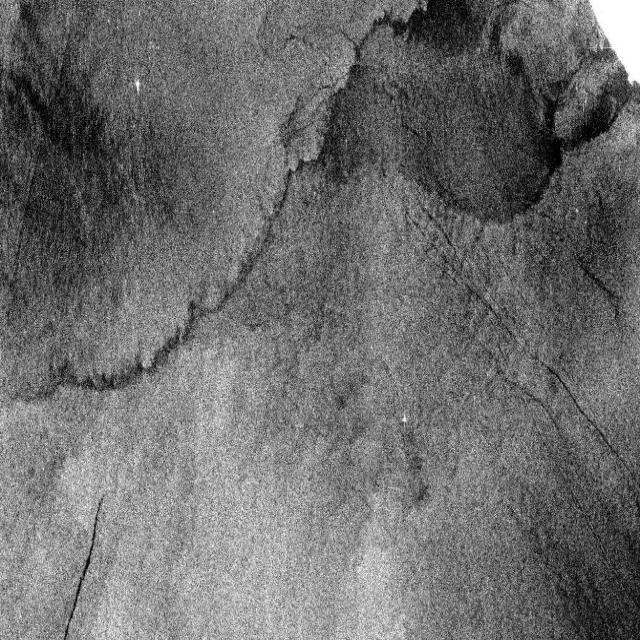look-alike: (7, 63, 132, 270), (508, 45, 626, 207), (16, 312, 202, 412), (410, 200, 520, 354), (280, 31, 366, 192), (209, 174, 294, 317), (546, 510, 640, 634), (374, 6, 488, 66), (539, 359, 615, 449), (572, 252, 623, 314)
oil-spill: (61, 497, 112, 639)
